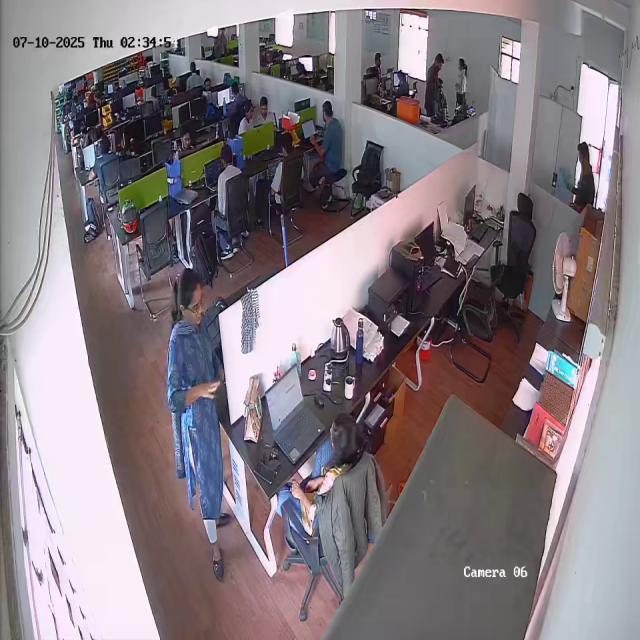person: (168, 266, 234, 583), (314, 101, 344, 172)
